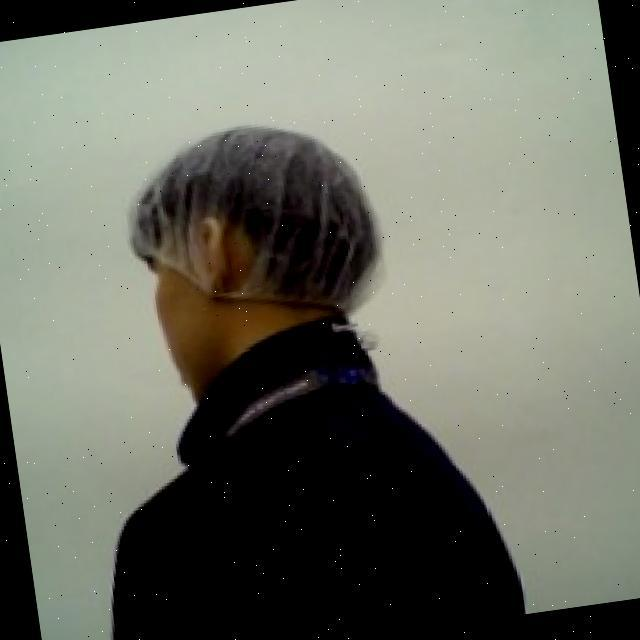gloves: (112, 104, 405, 346)
